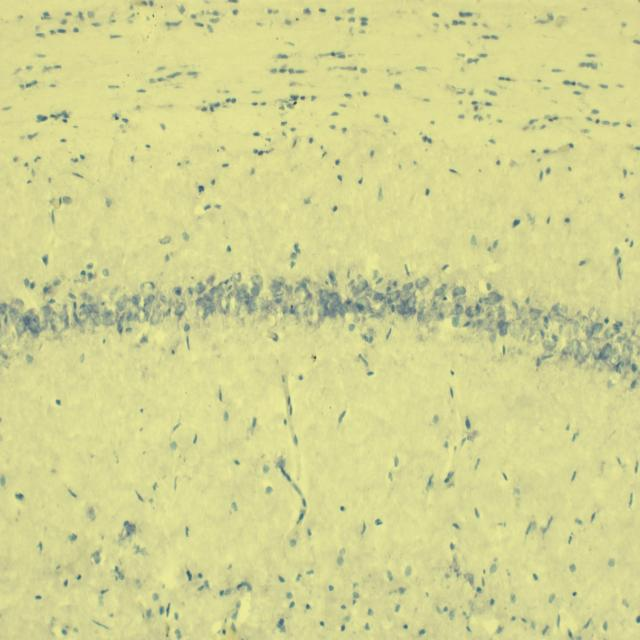neuron: (226, 291, 240, 317), (528, 322, 540, 347), (50, 310, 63, 332), (578, 339, 592, 359), (356, 273, 368, 295), (621, 341, 633, 363), (80, 316, 96, 332), (140, 281, 155, 298), (126, 304, 140, 322), (263, 310, 277, 328), (2, 354, 18, 369), (36, 310, 48, 330), (355, 296, 370, 312), (237, 302, 249, 321), (609, 346, 621, 365), (294, 302, 309, 317), (136, 308, 150, 324), (209, 285, 225, 299), (604, 325, 620, 339), (15, 319, 28, 336), (600, 343, 612, 361), (591, 343, 602, 362), (418, 306, 428, 326), (235, 283, 249, 297), (529, 308, 543, 322), (294, 283, 307, 298), (406, 294, 418, 310), (464, 304, 480, 316), (552, 302, 568, 314), (589, 305, 600, 322), (250, 275, 264, 288), (415, 275, 428, 289), (247, 296, 259, 311), (175, 300, 186, 316), (319, 288, 330, 304), (570, 337, 579, 356), (117, 295, 127, 312), (160, 290, 173, 303), (434, 283, 447, 296), (488, 292, 502, 304), (542, 339, 556, 351), (150, 310, 161, 325), (423, 307, 434, 322), (9, 306, 18, 324), (118, 312, 125, 335), (10, 299, 26, 309), (279, 300, 289, 316), (396, 300, 406, 316), (552, 314, 568, 324), (573, 320, 581, 340), (250, 285, 262, 298), (329, 299, 342, 311), (402, 308, 415, 320), (452, 303, 464, 316), (338, 304, 349, 318), (391, 289, 402, 303), (452, 286, 466, 297), (499, 322, 510, 336), (513, 322, 524, 336), (41, 304, 53, 316), (60, 304, 68, 322), (155, 290, 163, 308), (578, 315, 589, 328), (590, 322, 603, 333), (10, 350, 24, 360), (482, 316, 492, 330), (215, 297, 223, 314), (586, 322, 594, 339), (195, 296, 206, 308), (319, 305, 331, 316), (374, 292, 386, 303), (195, 281, 205, 294), (565, 326, 573, 342), (452, 295, 466, 304), (65, 318, 76, 329), (81, 304, 93, 314), (81, 292, 93, 302), (202, 291, 214, 301), (260, 300, 272, 310), (402, 282, 414, 292), (439, 303, 447, 318), (474, 302, 484, 314), (480, 297, 490, 309), (273, 276, 286, 285), (353, 315, 366, 324), (351, 285, 360, 298), (488, 320, 497, 333), (0, 302, 8, 316), (270, 284, 281, 294), (330, 291, 340, 302), (363, 285, 373, 296), (472, 319, 483, 329), (93, 315, 102, 327), (102, 317, 114, 326), (451, 316, 460, 328), (104, 310, 114, 320), (496, 315, 506, 325), (491, 302, 501, 312), (562, 345, 572, 355), (305, 292, 312, 306), (316, 317, 324, 329), (485, 306, 493, 318), (132, 294, 141, 304), (92, 303, 100, 314), (204, 306, 211, 318)
